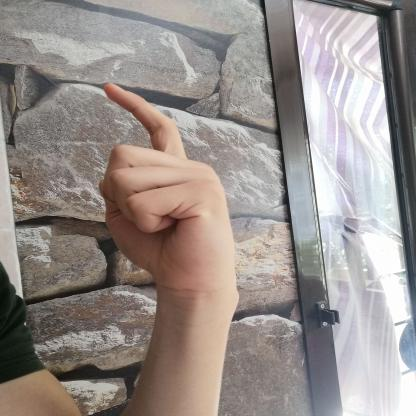RAA: (87, 74, 248, 302)
